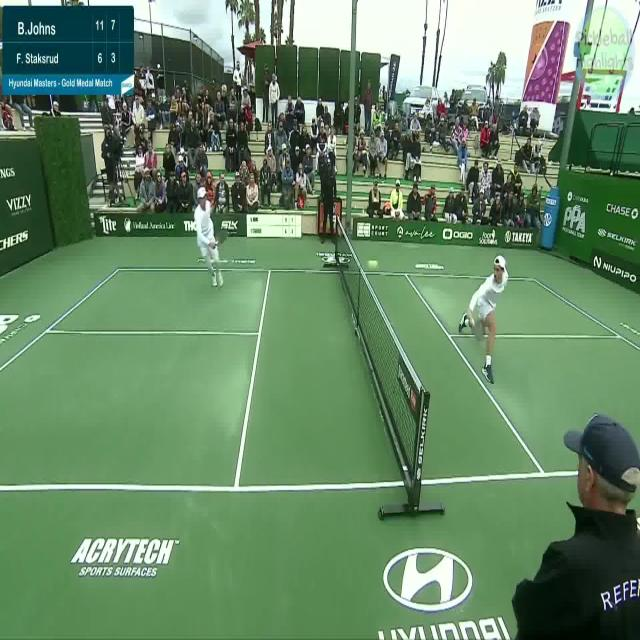ball: (364, 256, 384, 271)
